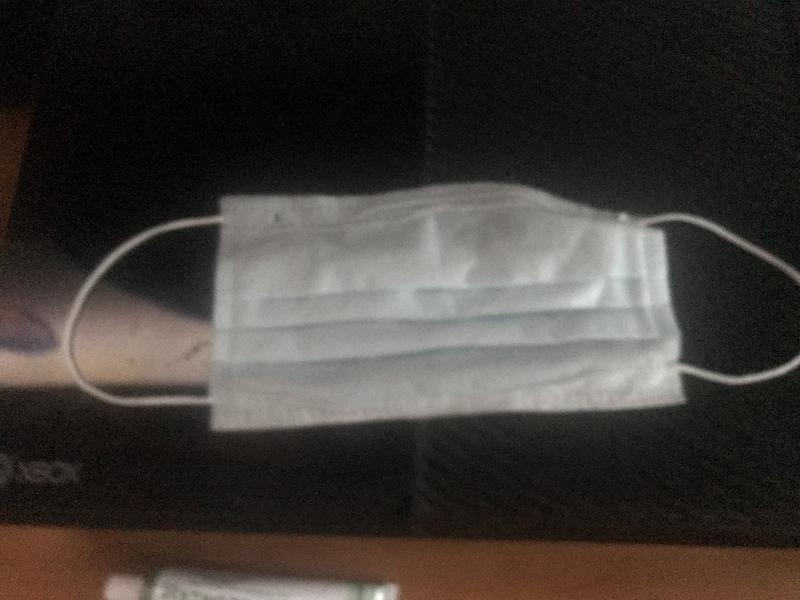medical_mask: (66, 183, 800, 433)
